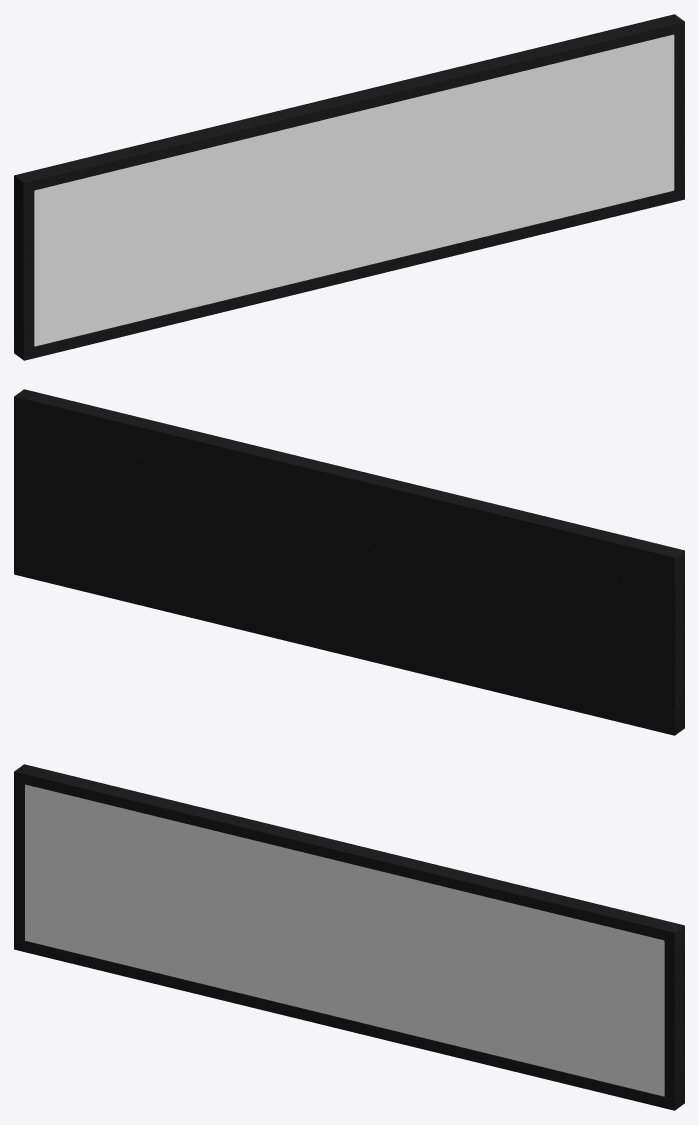
Rendered from Wall_Mounted_indoor_digital_screen.fbx.
3 renders of one model, top to bottom at view 1: azimuth 30°, elevation 25°; view 2: azimuth 150°, elevation 25°; view 3: azimuth 330°, elevation 25°, orthographic.
Parts seen in each view (by area): view 1: Wall_Mounted_indoor_digital_screen_Ad001, Wall_Mounted_indoor_digital_screen_Frame; view 2: Wall_Mounted_indoor_digital_screen_Frame; view 3: Wall_Mounted_indoor_digital_screen_Ad001, Wall_Mounted_indoor_digital_screen_Frame.
Part boxes in pixels (box(x1,y1,x2,y2)): Wall_Mounted_indoor_digital_screen_Ad001: box(34, 34, 674, 346); Wall_Mounted_indoor_digital_screen_Frame: box(14, 14, 684, 360); Wall_Mounted_indoor_digital_screen_Frame: box(14, 389, 684, 735); Wall_Mounted_indoor_digital_screen_Ad001: box(25, 784, 664, 1096); Wall_Mounted_indoor_digital_screen_Frame: box(14, 764, 684, 1110).
Size of the model in its own units: 96.99 by 24.99 by 2.5.
Materials: 2 (2 with a texture image).
